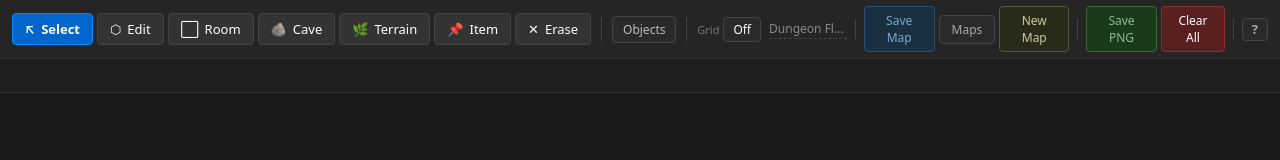
Scenario: Toolbar — map name / rename › enters rename mode when map name is clicked
The width and height of the screenshot is (1280, 160).
What coordinates should you click on to do the following:
click the text "Dungeon Floor 1"
I would click on:
 (808, 29)
Its box is left=769, top=20, right=847, bottom=38.
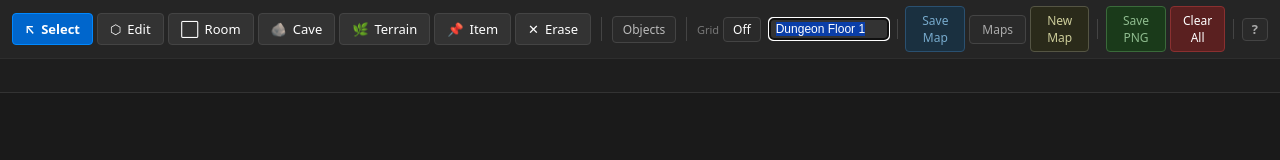
Now the field showing "Dungeon Floor 1" is shown, box left=769, top=18, right=889, bottom=40
